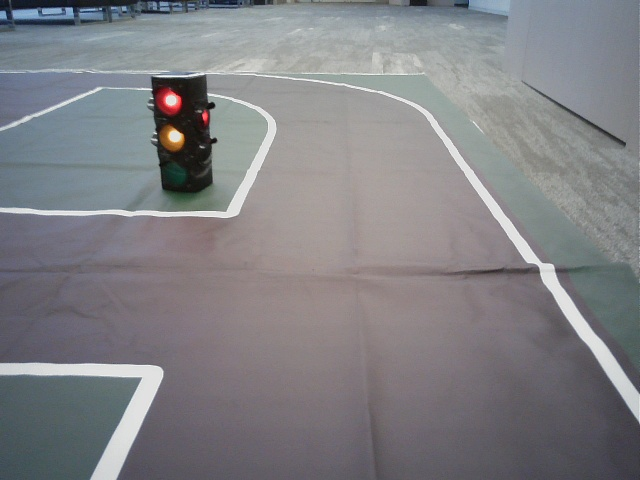red: (154, 83, 191, 190)
